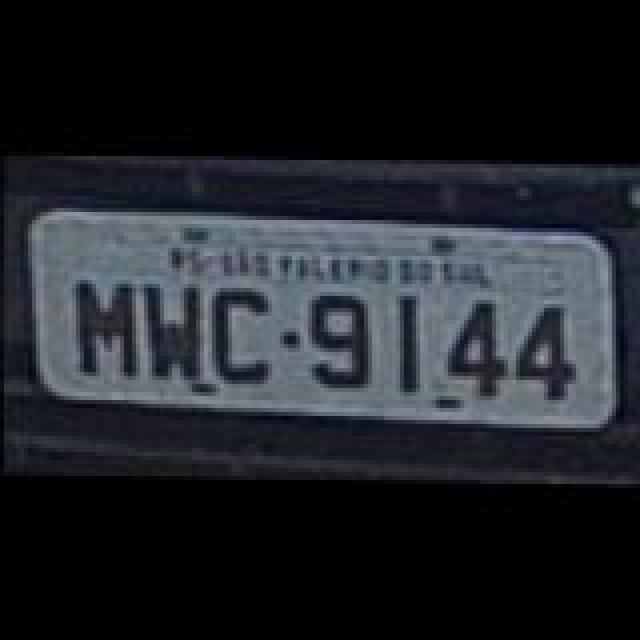1: (392, 298, 428, 394)
4: (444, 300, 512, 400), (514, 306, 578, 406)
9: (306, 296, 378, 392)
C: (206, 290, 278, 386)
M: (68, 282, 144, 382)
W: (136, 284, 204, 384)
